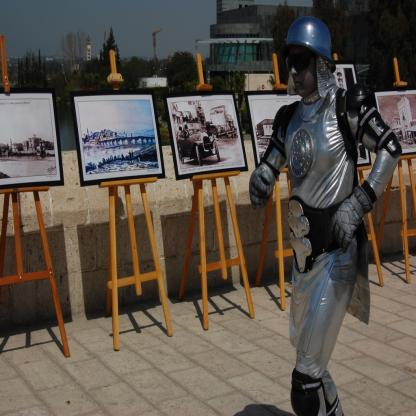Helmet: (285, 19, 339, 89)
